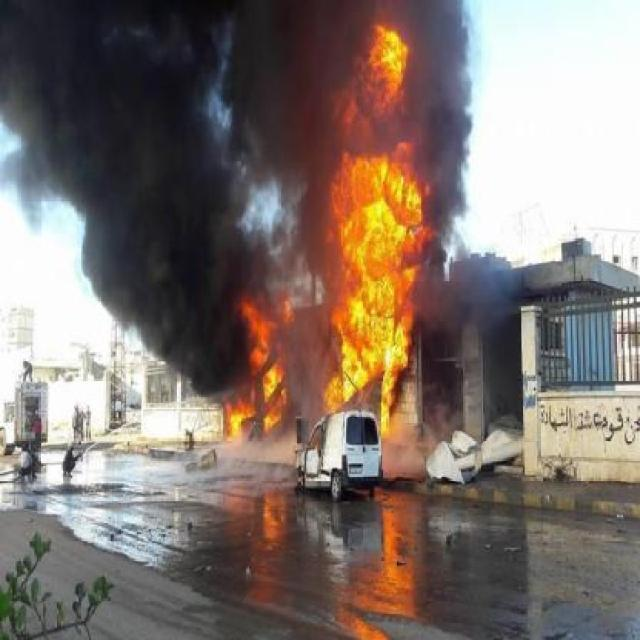Fire: (232, 164, 465, 465)
Smoke: (5, 26, 234, 242)
